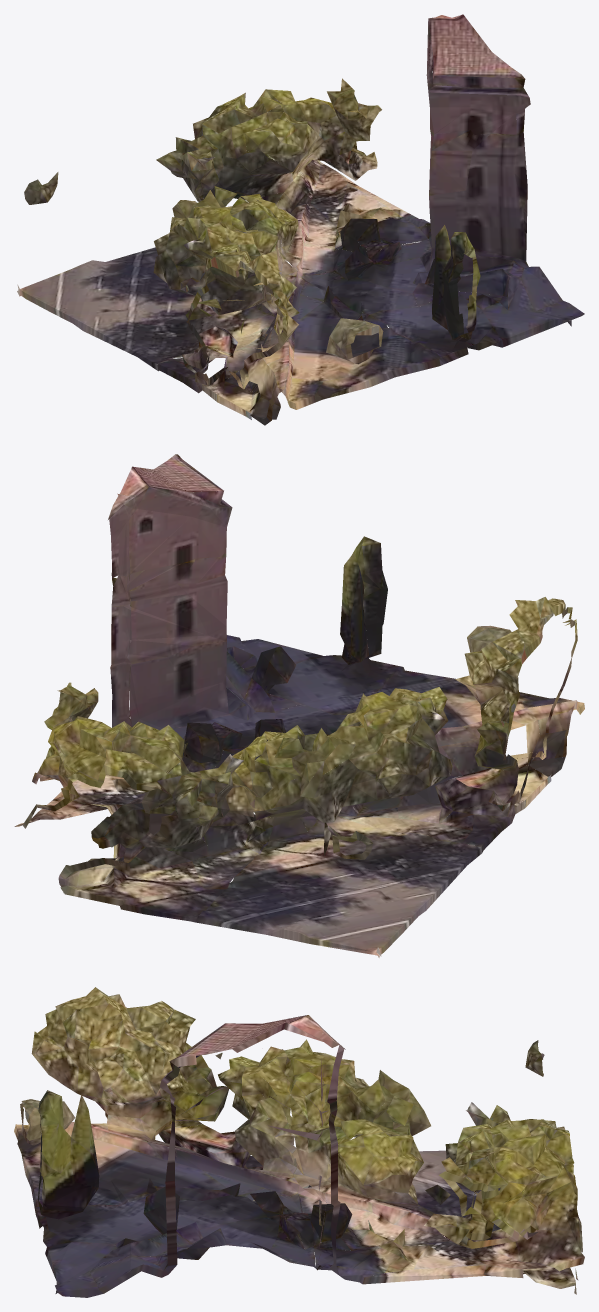
3 renders of one model, top to bottom at view 1: azimuth 30°, elevation 25°; view 2: azimuth 150°, elevation 25°; view 3: azimuth 270°, elevation 25°, orthographic. The views are drawn at different scales.
Visible parts, largest first — view 1: Mesh_0; view 2: Mesh_0; view 3: Mesh_0.
Part boxes in pixels (x1,y1,x2,y2): Mesh_0: (17,14,584,425); Mesh_0: (14,454,584,957); Mesh_0: (14,987,584,1297).
Size of the model in its own units: 33.63 by 25.34 by 41.35.
Materials: 2 (2 with a texture image).
